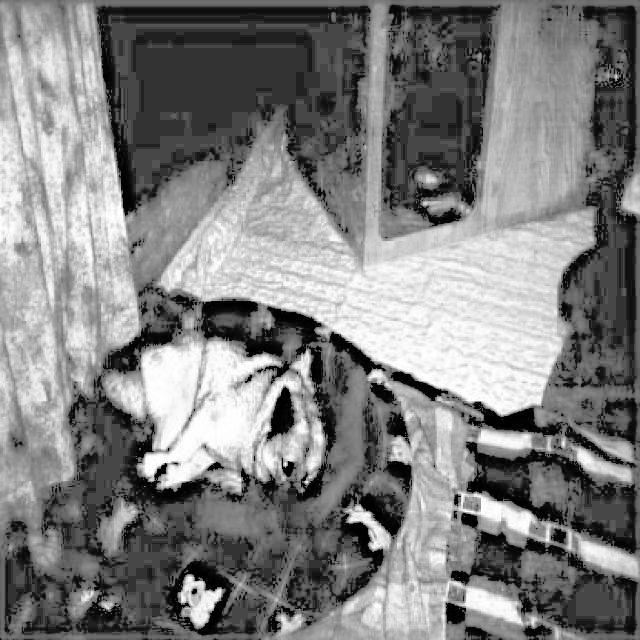Dog: (103, 334, 329, 503)
